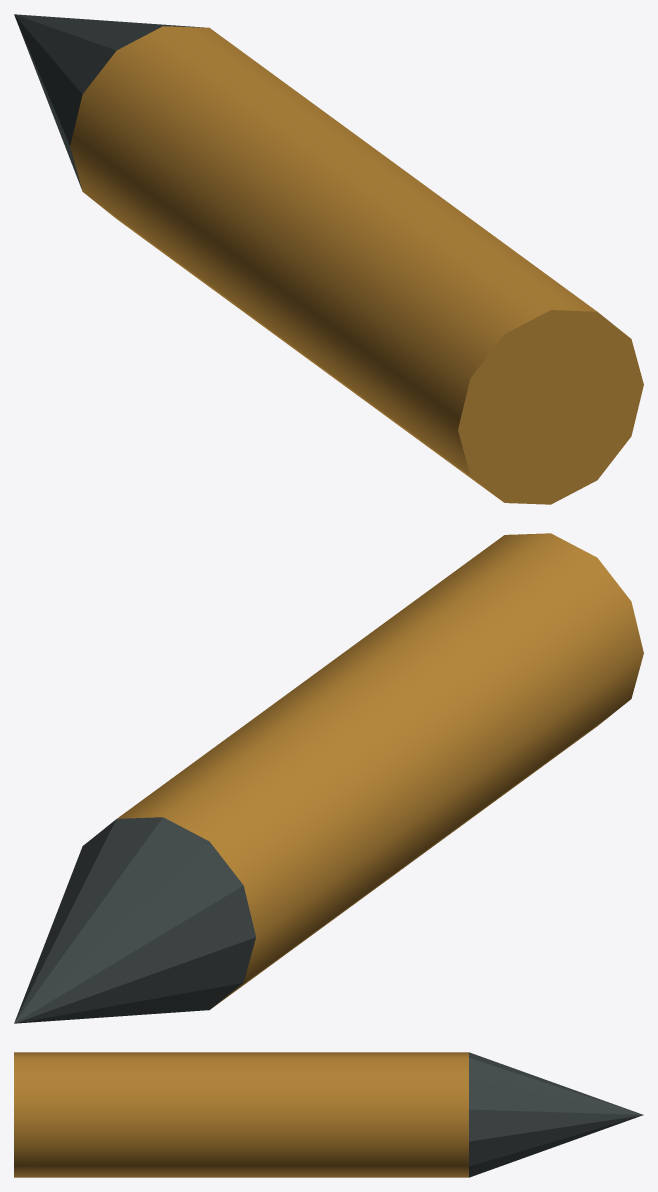
File: noir-projectile-round.glb
3 renders of one model, top to bottom at view 1: azimuth 30°, elevation 25°; view 2: azimuth 150°, elevation 25°; view 3: azimuth 270°, elevation 25°, orthographic. The views are drawn at different scales.
Parts seen in each view (by area): view 1: noir-projectile-round mesh; view 2: noir-projectile-round mesh; view 3: noir-projectile-round mesh.
Boxes of the visible parts, x1,y1,x2,y2 form: noir-projectile-round mesh: (14,14,643,504); noir-projectile-round mesh: (14,533,643,1023); noir-projectile-round mesh: (14,1052,643,1177).
Size of the model in its own units: 0.036 by 0.036 by 0.18.
